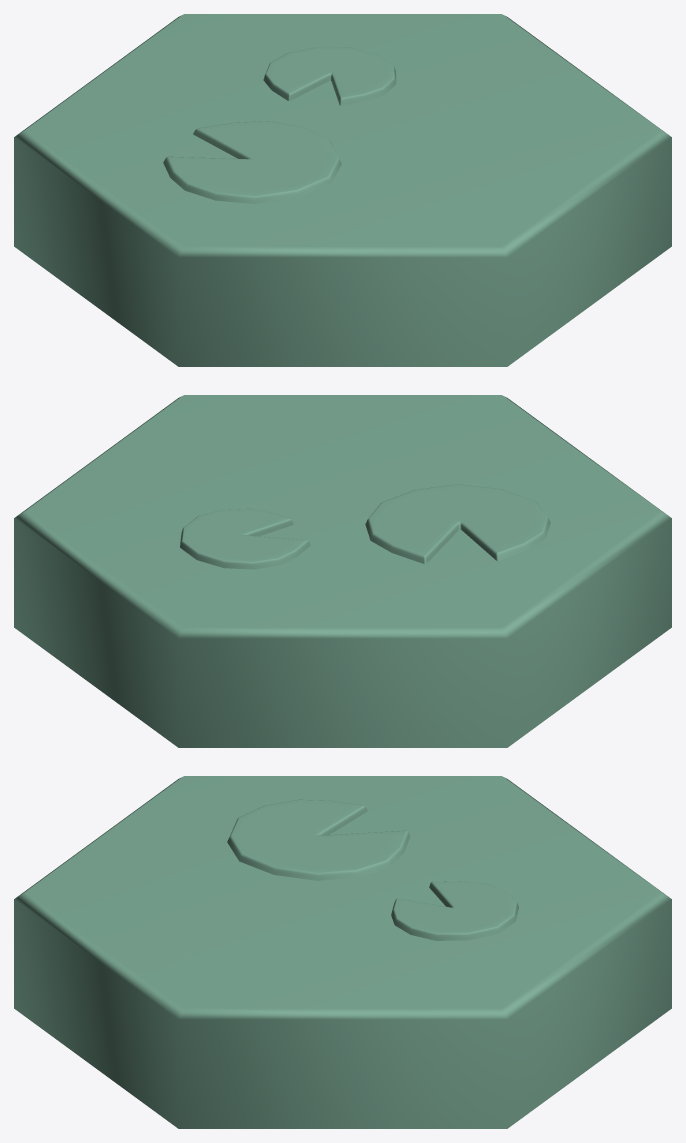
The model's file is 7_water_lily.fbx.
3 views of the same model, one above another, from view 1: azimuth 30°, elevation 25°; view 2: azimuth 150°, elevation 25°; view 3: azimuth 270°, elevation 25° (orthographic).
Parts seen in each view (by area): view 1: pCylinder15; view 2: pCylinder15; view 3: pCylinder15.
Part boxes in pixels (left/top/right/bottom): pCylinder15: left=14, top=14, right=671, bottom=366; pCylinder15: left=14, top=395, right=671, bottom=747; pCylinder15: left=14, top=776, right=671, bottom=1128.
Bounding box in the file's own units: 4.05 × 0.9615 × 4.68.
